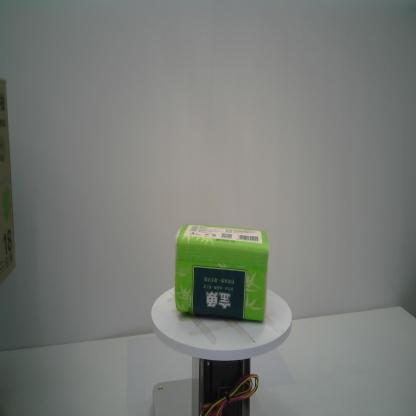Tissue: (174, 223, 270, 323)
